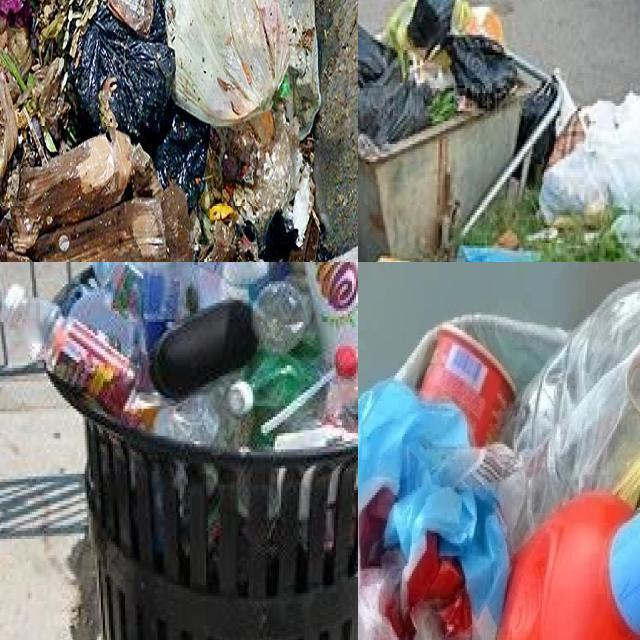Disposable: (107, 0, 153, 37)
Garbage: (358, 280, 640, 640), (1, 262, 358, 452), (358, 0, 530, 153)
Plastic: (262, 211, 297, 262)
Plastic_Bag: (358, 379, 509, 640), (165, 0, 287, 126), (71, 0, 175, 138), (407, 0, 517, 108), (358, 24, 430, 147), (155, 110, 209, 209)
Plastic_Container: (497, 493, 640, 640)
Plastic_bottle: (502, 281, 640, 542), (3, 284, 136, 415), (227, 329, 322, 417), (286, 0, 320, 138), (253, 282, 309, 353), (142, 262, 183, 351), (153, 394, 220, 445), (323, 343, 358, 433), (93, 262, 143, 315), (224, 262, 268, 286)
